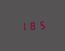eight: (28, 20, 36, 30)
five: (37, 19, 45, 30)
one: (18, 20, 26, 31)
